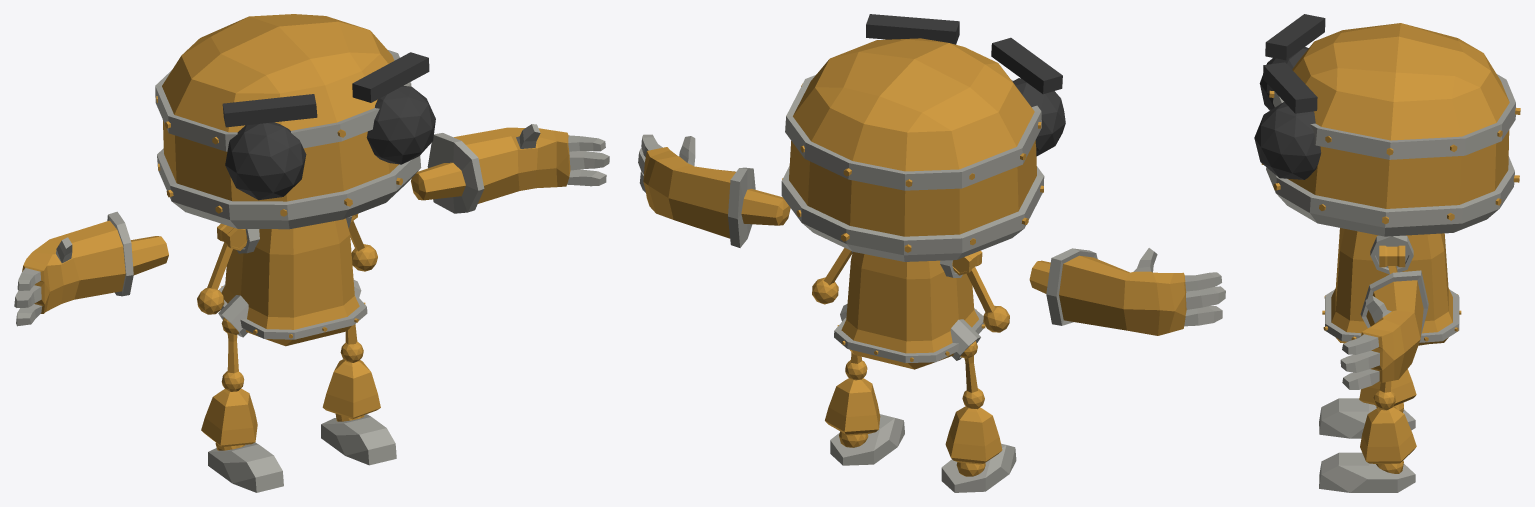
The model's file is robot.glb.
3 views of the same model, side by side, from view 1: azimuth 30°, elevation 25°; view 2: azimuth 150°, elevation 25°; view 3: azimuth 270°, elevation 25° (orthographic).
Visible parts, largest first — view 1: Head, Torso, Hand.L, Hand.R, LowerLeg.R, Foot.L, Foot.R, LowerLeg.L, Arm.R, Arm.L, Leg.R; view 2: Head, Torso, Hand.R, Hand.L, LowerLeg.R, LowerLeg.L, Foot.L, Foot.R, Arm.R, Arm.L, Leg.R; view 3: Head, Torso, Hand.L, Foot.L, LowerLeg.L, Foot.R, LowerLeg.R, Shoulder.L, Leg.L.
Boxes of the visible parts, x1,y1,x2,y2 form: Head: (155, 14, 435, 229); Torso: (218, 216, 367, 346); Hand.L: (411, 124, 609, 213); Hand.R: (14, 211, 168, 326); LowerLeg.R: (201, 388, 257, 450); Foot.L: (321, 414, 396, 465); Foot.R: (208, 442, 283, 492); LowerLeg.L: (322, 359, 380, 421); Arm.R: (197, 242, 232, 314); Arm.L: (348, 221, 377, 271); Leg.R: (221, 334, 244, 391); Head: (781, 14, 1065, 261); Torso: (834, 251, 985, 369); Hand.R: (1029, 248, 1225, 335); Hand.L: (638, 134, 790, 247); LowerLeg.R: (945, 406, 1002, 476); LowerLeg.L: (825, 378, 880, 447); Foot.L: (830, 414, 904, 465); Foot.R: (941, 443, 1016, 492); Arm.R: (967, 267, 1009, 332); Arm.L: (812, 248, 852, 304); Leg.R: (962, 355, 984, 409); Head: (1254, 14, 1520, 236); Torso: (1322, 228, 1461, 345); Hand.L: (1340, 270, 1428, 389); Foot.L: (1319, 452, 1415, 492); LowerLeg.L: (1360, 407, 1416, 473); Foot.R: (1319, 398, 1415, 438); LowerLeg.R: (1359, 369, 1416, 412); Shoulder.L: (1379, 245, 1405, 267); Leg.L: (1373, 381, 1395, 410).
Bounding box in the file's own units: 2 × 1.36 × 0.7905.
